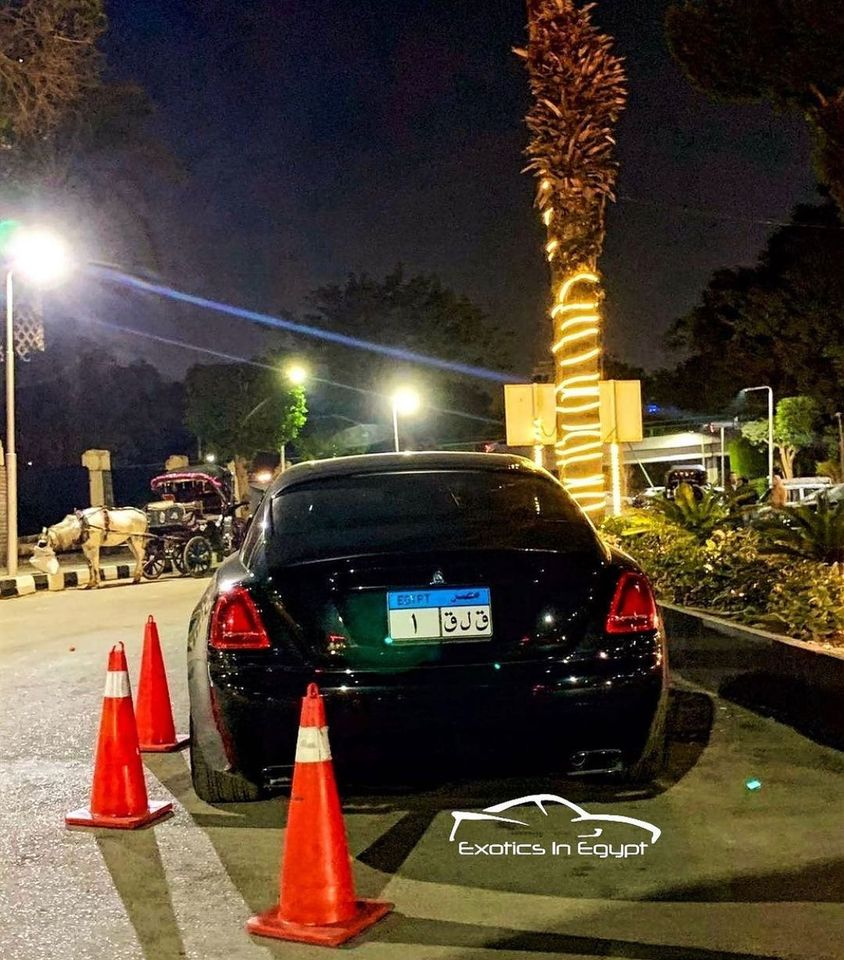carpl: (393, 603, 496, 641)
